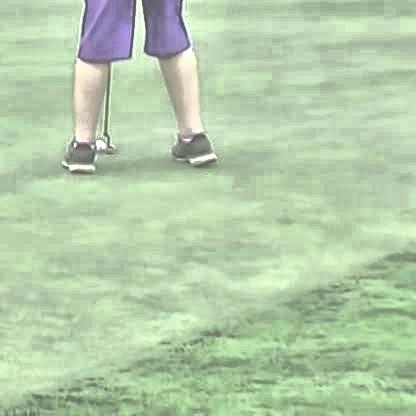golfball: (92, 137, 105, 150)
